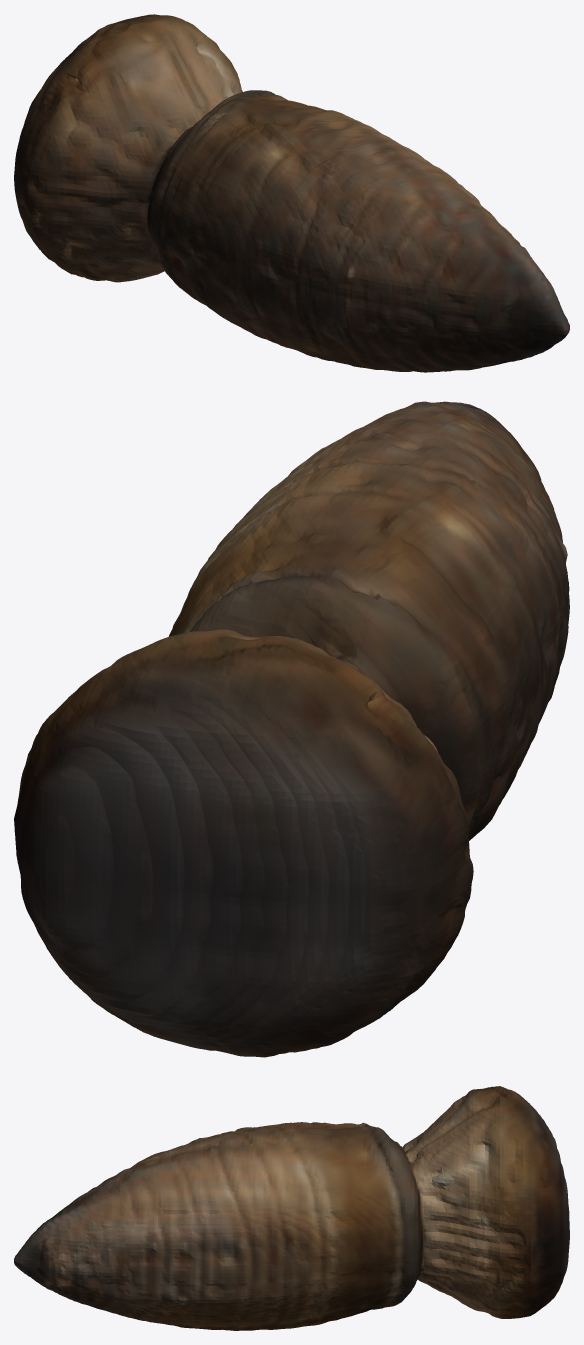
3 renders of one model, top to bottom at view 1: azimuth 30°, elevation 25°; view 2: azimuth 150°, elevation 25°; view 3: azimuth 270°, elevation 25°, orthographic. The views are drawn at different scales.
Bounding box in the file's own units: 0.5046 × 0.4155 × 0.9977.
